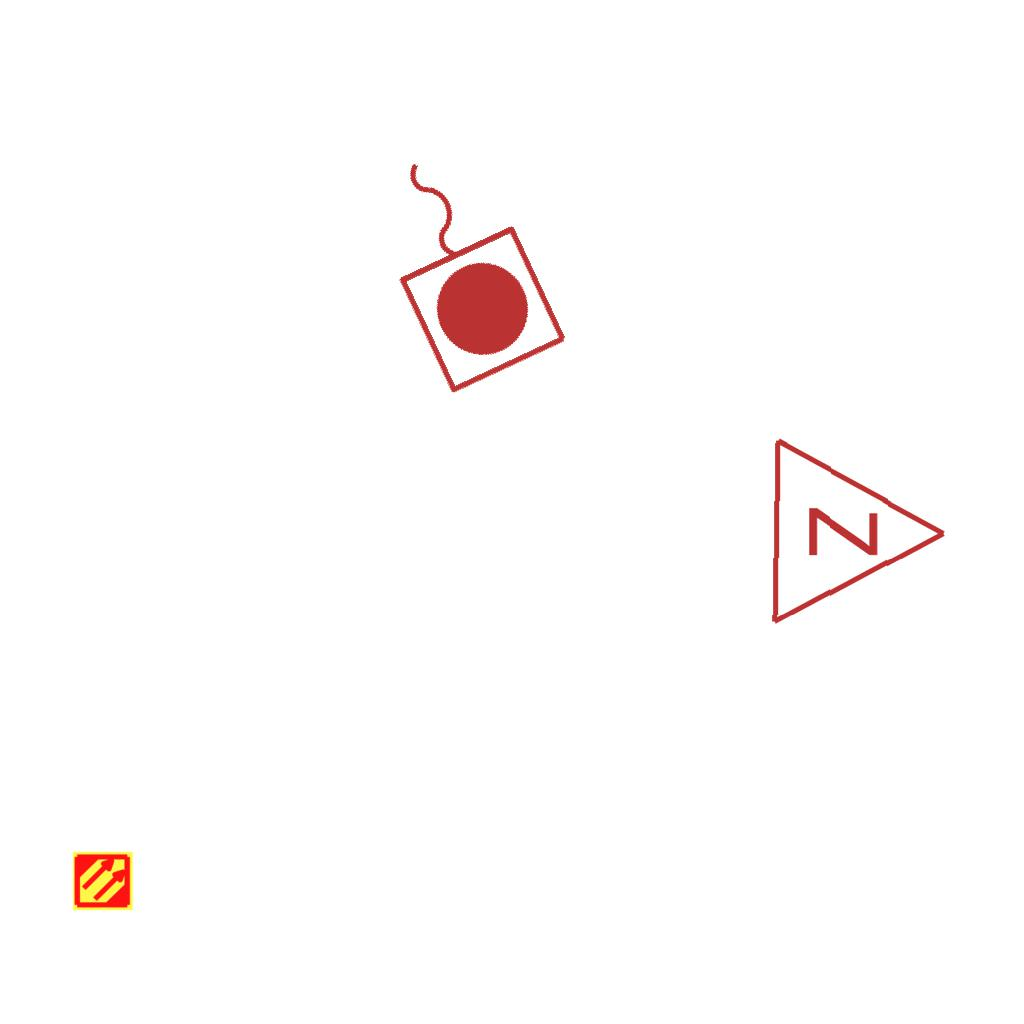ASR_Ansaugrauchmelder: (72, 850, 134, 912)
Zimmersignalleuchte: (757, 430, 961, 630)
Zugtaster: (346, 122, 580, 404)
